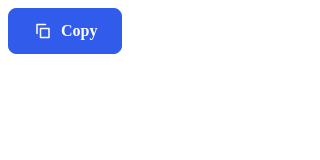
CopyButton › leaves a primary button its own colours on success
This screenshot has width=320, height=160.
What coordinates should you click on to do the following:
click the button
I would click on:
 (65, 31)
Its box is x1=8 y1=8 x2=122 y2=54.
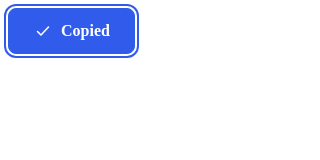
Check: the button "Copied" is shown, box x1=8 y1=8 x2=135 y2=54
